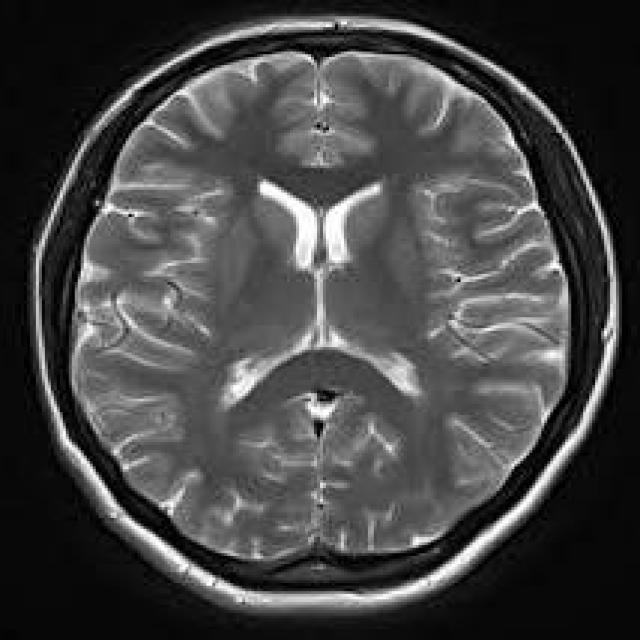notumor: (39, 16, 622, 621)
